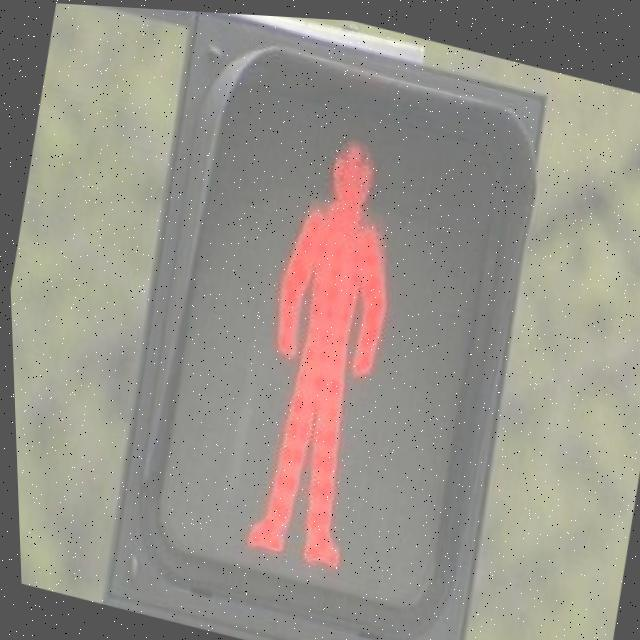red_light: (135, 64, 516, 614)
